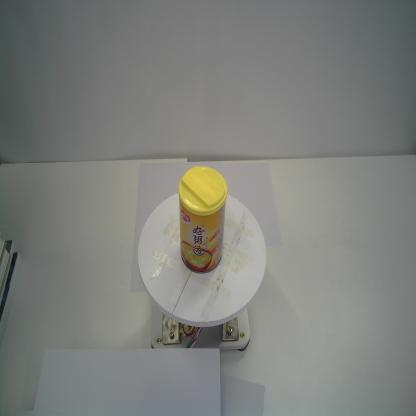Canned Food: (178, 165, 228, 275)
